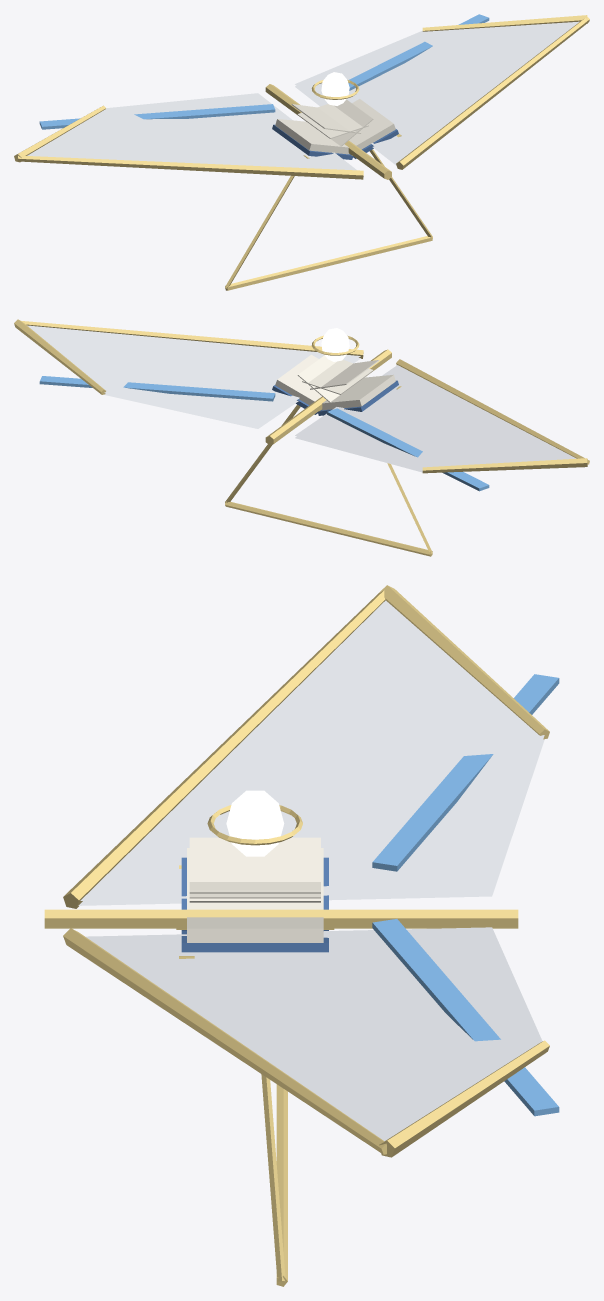
File: gear.glb
The picture shows the model from 3 angles, top to bottom: view 1: azimuth 30°, elevation 25°; view 2: azimuth 150°, elevation 25°; view 3: azimuth 270°, elevation 25°; orthographic projection. The views are drawn at different scales.
Parts seen in each view (by area): view 1: Glider, Catalyst, GliderTrim; view 2: Glider, Catalyst, GliderTrim; view 3: Glider, Catalyst, GliderTrim.
Part boxes in pixels (x1=…): Glider: x1=14, y1=15, x2=589, y2=290; Catalyst: x1=272, y1=72, x2=401, y2=159; GliderTrim: x1=39, y1=14, x2=489, y2=129; Glider: x1=14, y1=319, x2=589, y2=556; Catalyst: x1=272, y1=328, x2=401, y2=415; GliderTrim: x1=39, y1=376, x2=489, y2=491; Glider: x1=44, y1=585, x2=549, y2=1286; Catalyst: x1=176, y1=790, x2=334, y2=958; GliderTrim: x1=372, y1=674, x2=559, y2=1116.
Bounding box in the file's own units: 2.52 × 0.8302 × 0.9774.
